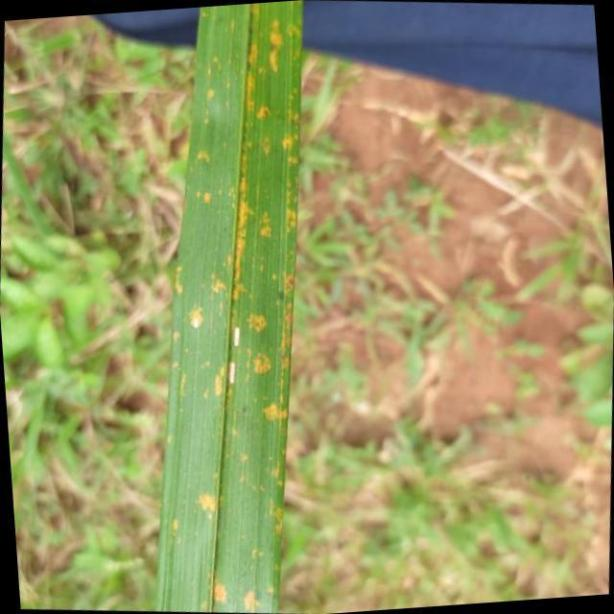Kalium: (148, 0, 300, 614)
